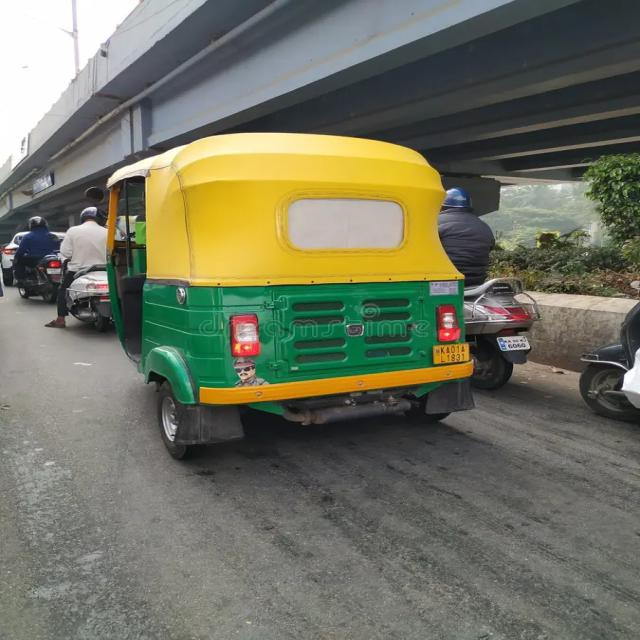Plate: (433, 344, 469, 364)
rickshaw: (107, 128, 479, 455)
